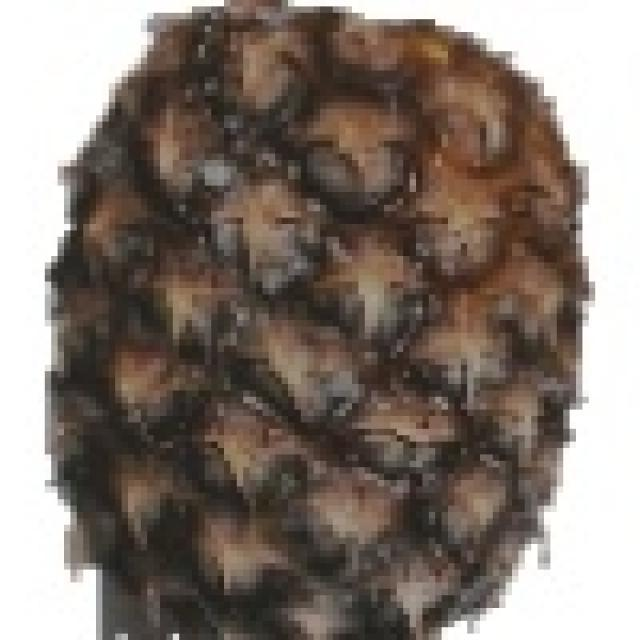pineapple: (49, 0, 588, 639)
